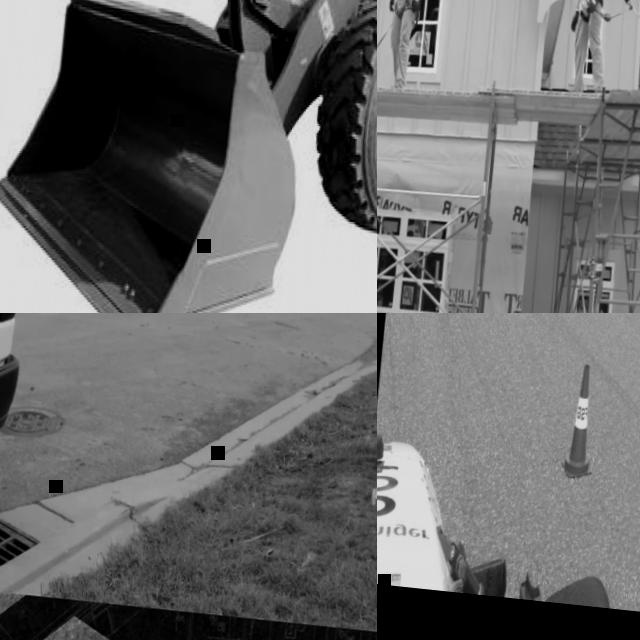Person: (562, 0, 621, 95), (379, 0, 433, 89)
Safety Cone: (558, 361, 602, 479)
machinery: (0, 0, 377, 313)
vehicle: (377, 434, 622, 607)
